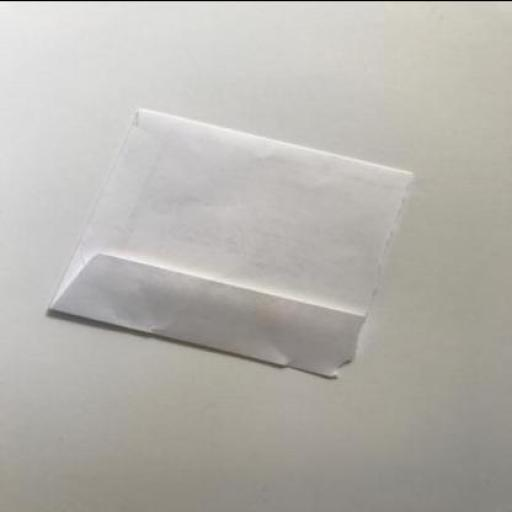paper: (47, 107, 411, 378)
